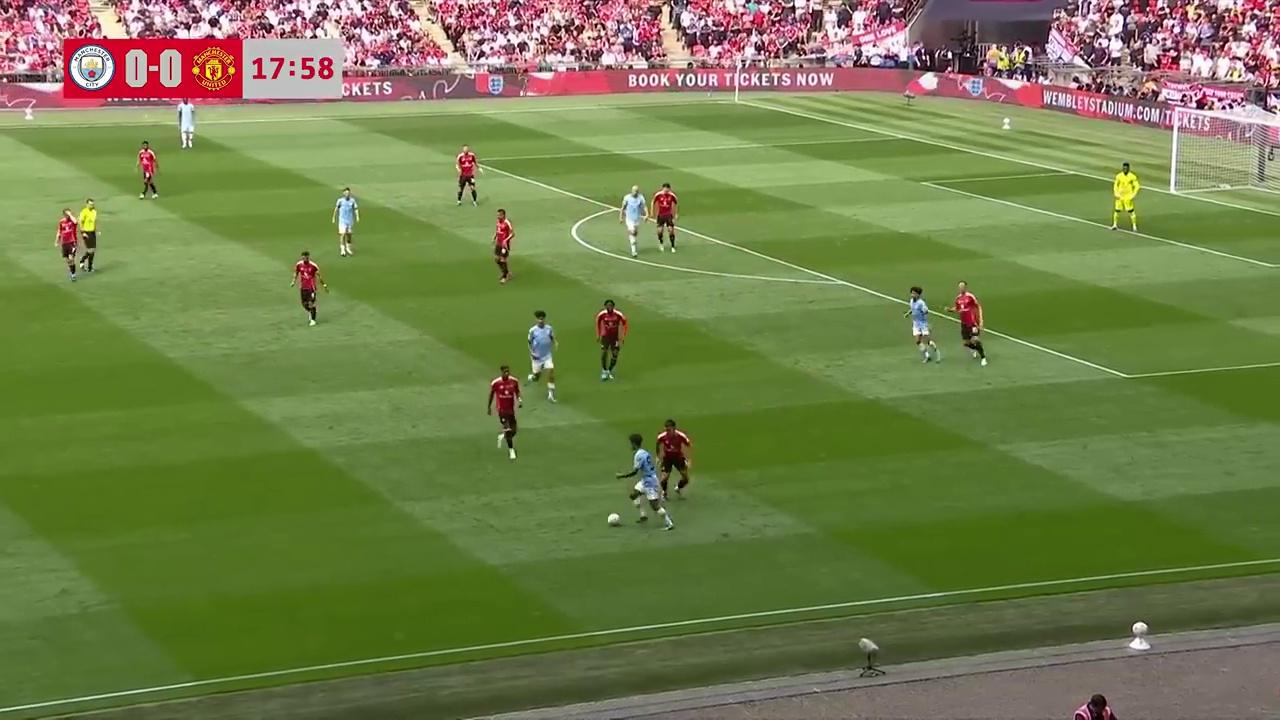ball: (605, 509, 621, 526)
player: (616, 434, 671, 527), (948, 280, 987, 365), (487, 364, 522, 457), (654, 419, 694, 500), (526, 310, 558, 402), (291, 249, 327, 326), (595, 299, 628, 381), (905, 286, 940, 361), (1110, 162, 1138, 233), (332, 186, 360, 256), (650, 182, 678, 252), (55, 209, 80, 283), (619, 185, 645, 256), (492, 207, 514, 283), (136, 140, 159, 200), (455, 147, 478, 206), (177, 99, 196, 149)
referee: (75, 197, 98, 271)
